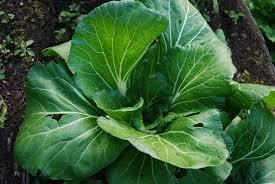Healthy-Pechay: (22, 1, 274, 181)
